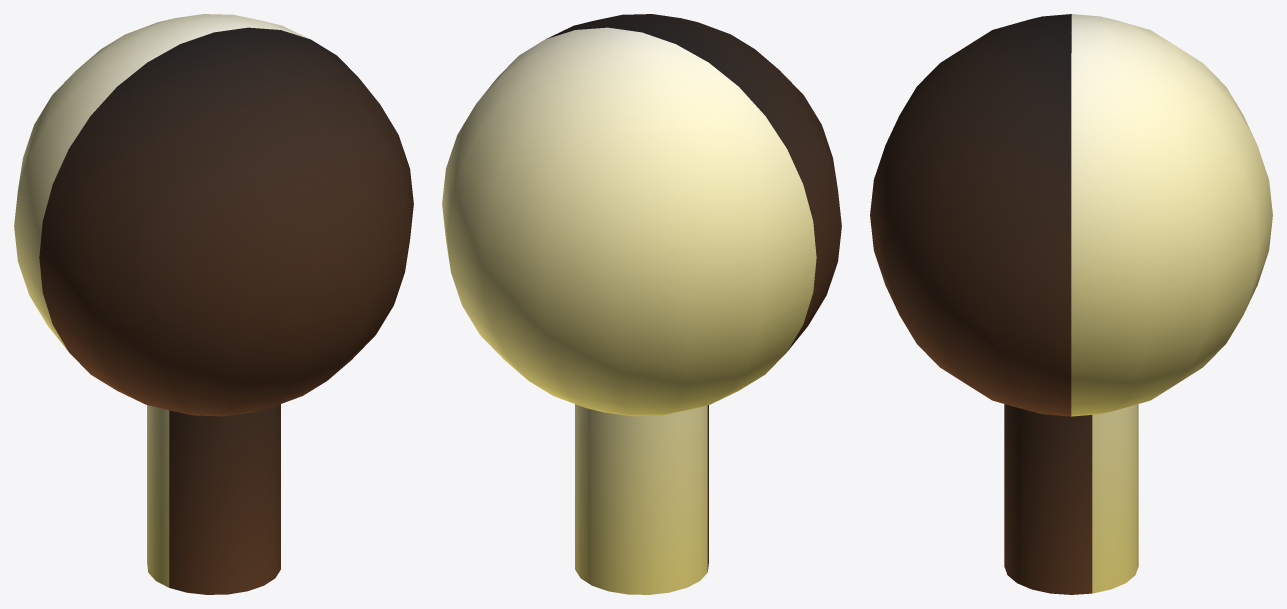
Rendered from Globe_V2.fbx.
3 views of the same model, side by side, from view 1: azimuth 30°, elevation 25°; view 2: azimuth 150°, elevation 25°; view 3: azimuth 270°, elevation 25° (orthographic).
Parts seen in each view (by area): view 1: pSphere2; view 2: pSphere2; view 3: pSphere2.
Boxes of the visible parts, x1,y1,x2,y2 form: pSphere2: [14, 14, 413, 594]; pSphere2: [442, 14, 841, 594]; pSphere2: [870, 14, 1272, 594].
Size of the model in its own units: 60 by 87.71 by 60.
Materials: 1 (1 with a texture image).
